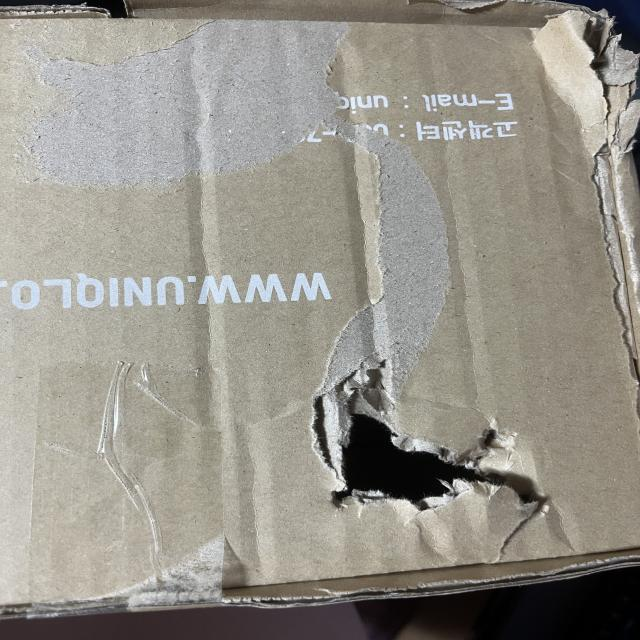hole: (289, 366, 559, 566)
